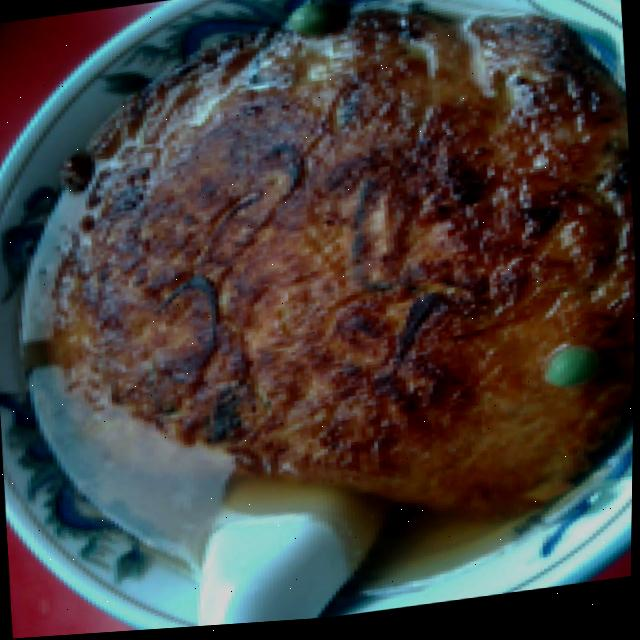面条主食: (16, 0, 640, 623)
